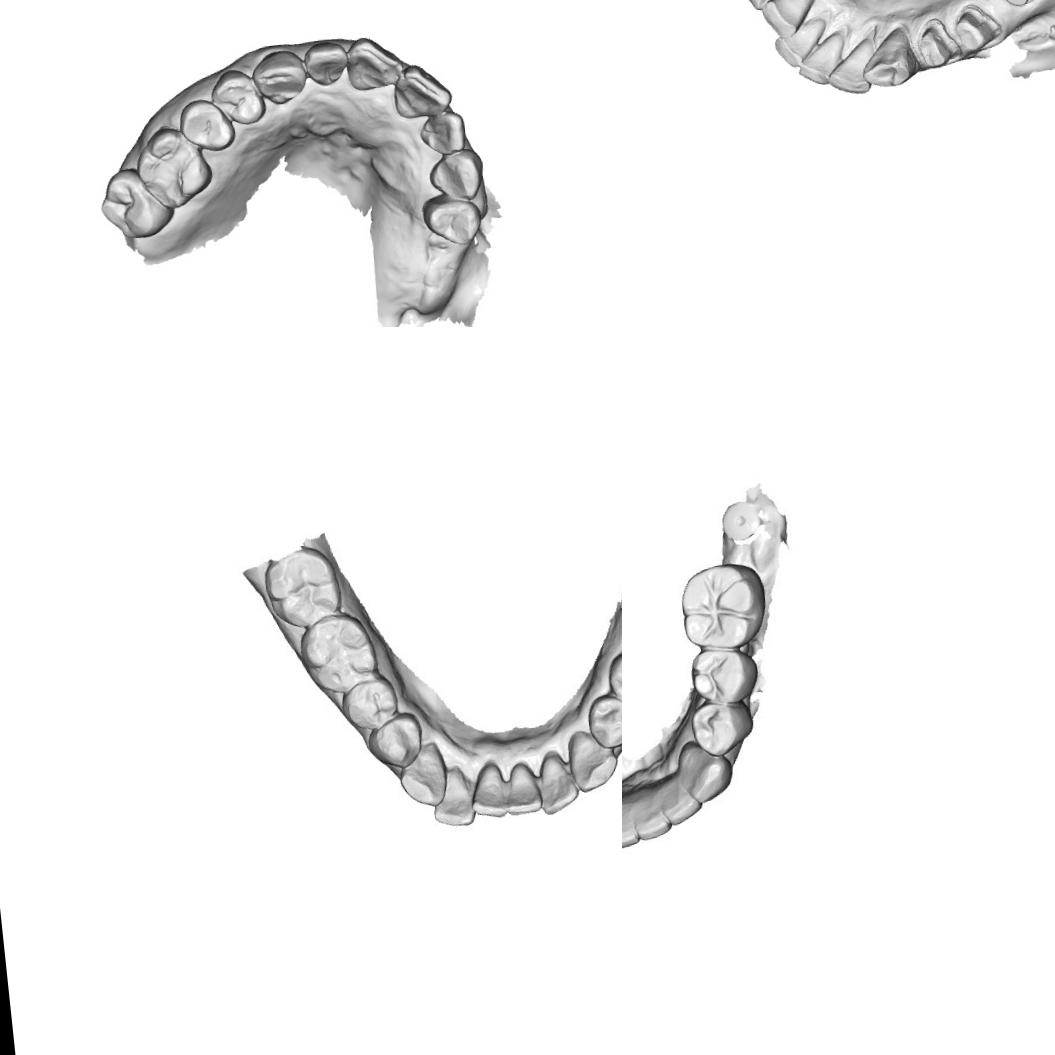canine: (248, 43, 312, 106), (563, 724, 619, 796), (858, 23, 917, 90), (677, 738, 735, 806), (426, 144, 488, 204), (395, 746, 448, 811), (740, 0, 808, 13)
crown: (952, 0, 1002, 55), (914, 22, 956, 70)
implant: (714, 493, 768, 548), (997, 0, 1046, 10)
incisor: (388, 57, 455, 121), (342, 32, 404, 92), (793, 30, 850, 90), (824, 34, 876, 99), (771, 16, 830, 71), (430, 769, 478, 829), (466, 762, 512, 824), (301, 38, 351, 92), (758, 0, 820, 42), (416, 108, 468, 158), (540, 754, 581, 814), (632, 792, 672, 843), (660, 782, 704, 827), (504, 764, 540, 814), (622, 798, 642, 854)
molar: (673, 559, 772, 653), (130, 120, 216, 214), (96, 161, 179, 243), (267, 550, 340, 623), (304, 615, 377, 688)
premolar: (687, 643, 762, 708), (418, 188, 486, 250), (207, 65, 271, 129), (688, 698, 754, 760), (176, 95, 237, 155), (340, 675, 394, 729), (368, 713, 424, 765), (587, 696, 622, 750)
